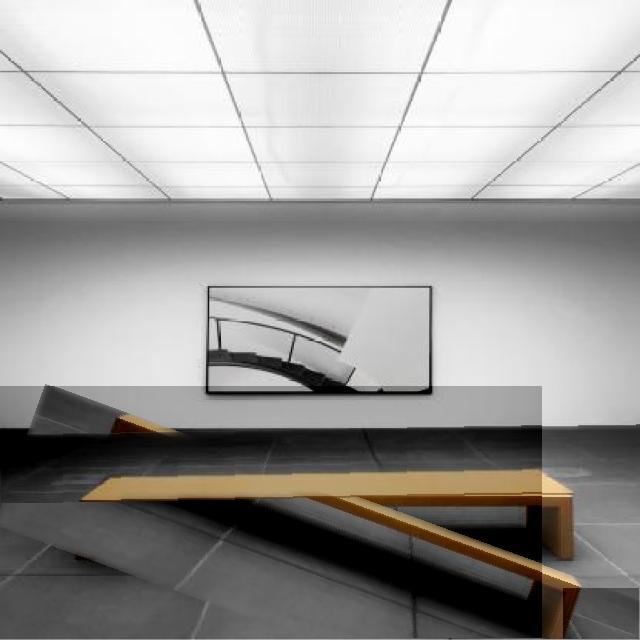floor: (0, 387, 542, 639), (0, 426, 640, 503), (563, 588, 640, 640)
